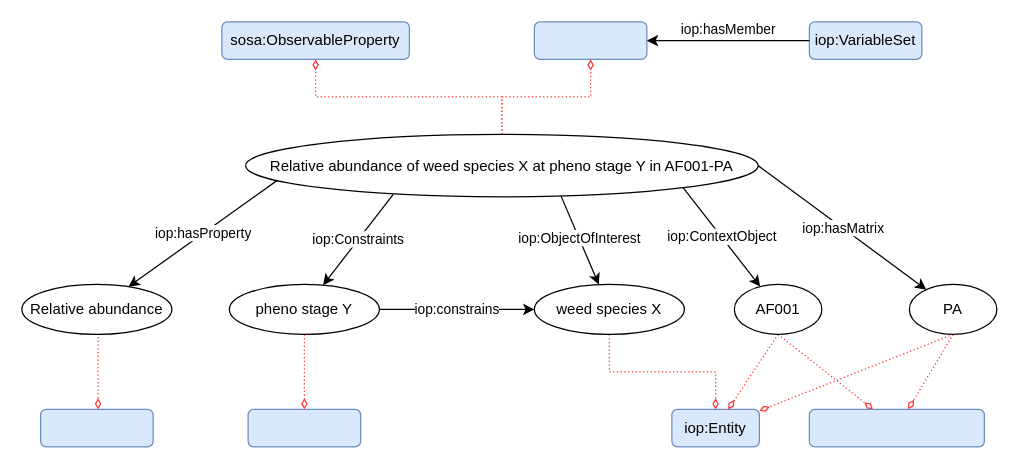
Some shapes in this 1019 by 470 pixel diagram are drawn without their labels. The shapes that lost their labels are listed below. From the top down, each one's box as (x1, y1, x2, y2) in pixels, then its label:
(533, 21, 647, 59): iop:Variable
(39, 408, 153, 447): iop:property
(247, 408, 361, 447): iop:Constraint
(808, 408, 984, 447): sosa:FeatureOfinterest
